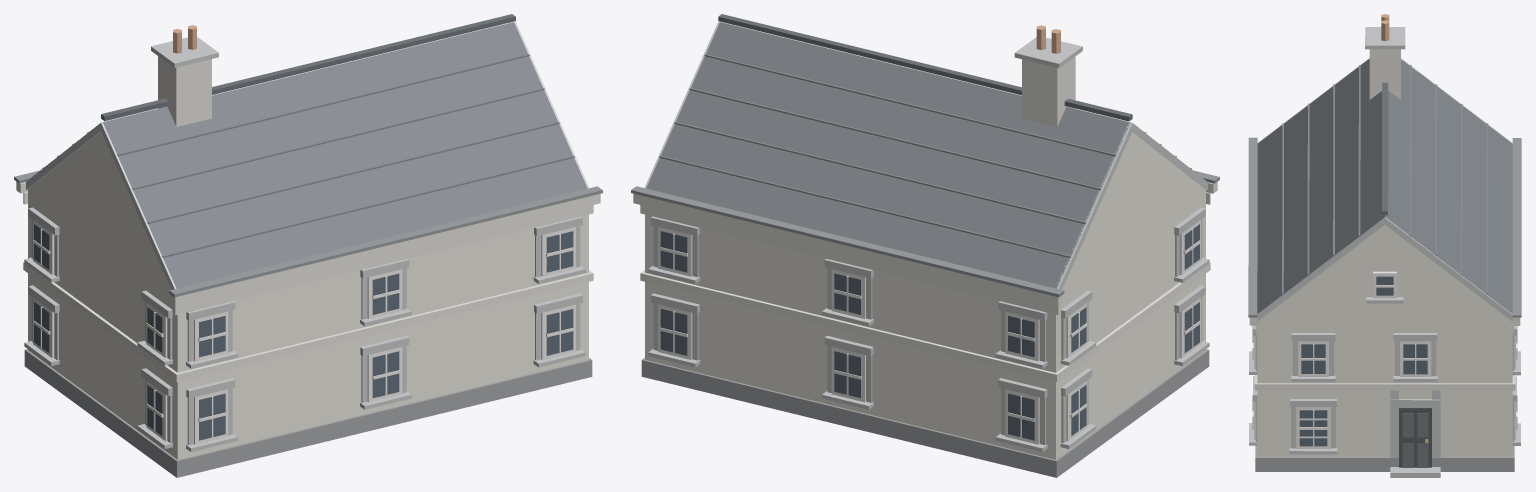
3 views of the same model, side by side, from view 1: azimuth 30°, elevation 25°; view 2: azimuth 150°, elevation 25°; view 3: azimuth 270°, elevation 25° (orthographic). The views are drawn at different scales.
Parts seen in each view (by area): view 1: slate, harl_cream, stone_band, string, plinth, frame, slate_lt, lead, slate_dk, chim_render, window_glass_009, window_glass_007 (+4 smaller); view 2: slate, harl_cream, stone_band, string, plinth, frame, slate_lt, lead, slate_dk, chim_render, window_glass_011, window_glass_013 (+4 smaller); view 3: slate, harl_cream, stone_band, lead, plinth, slate_lt, frame, string, chim_render, door_dark_p, door_dark, slate_dk (+4 smaller).
Part boxes in pixels (box(x1,y1,x2,y2)): slate: box(103, 22, 587, 288); harl_cream: box(28, 132, 588, 459); stone_band: box(24, 21, 589, 451); string: box(16, 181, 600, 382); plinth: box(24, 349, 592, 477); frame: box(33, 219, 575, 444); slate_lt: box(42, 54, 574, 257); lead: box(14, 170, 602, 297); slate_dk: box(101, 14, 515, 121); chim_render: box(158, 56, 211, 126); window_glass_009: box(546, 309, 573, 355); window_glass_007: box(372, 351, 399, 398); slate: box(646, 22, 1130, 288); harl_cream: box(645, 132, 1205, 459); stone_band: box(644, 21, 1209, 451); string: box(633, 182, 1217, 381); plinth: box(641, 349, 1209, 477); frame: box(658, 220, 1200, 444); slate_lt: box(659, 54, 1191, 257); lead: box(631, 170, 1219, 297); slate_dk: box(718, 14, 1132, 121); chim_render: box(1022, 56, 1075, 127); window_glass_011: box(660, 309, 687, 355); window_glass_013: box(834, 351, 860, 398); slate: box(1257, 59, 1512, 313); harl_cream: box(1257, 225, 1512, 456); stone_band: box(1249, 27, 1520, 477); lead: box(1248, 137, 1521, 317); plinth: box(1255, 445, 1514, 471); slate_lt: box(1282, 65, 1488, 294); frame: box(1252, 271, 1517, 448); string: box(1249, 317, 1520, 390); chim_render: box(1369, 49, 1400, 99); door_dark_p: box(1402, 413, 1428, 467); door_dark: box(1399, 408, 1431, 467); slate_dk: box(1382, 82, 1388, 215).
Size of the model in its own units: 12.33 by 10.06 by 7.88.
